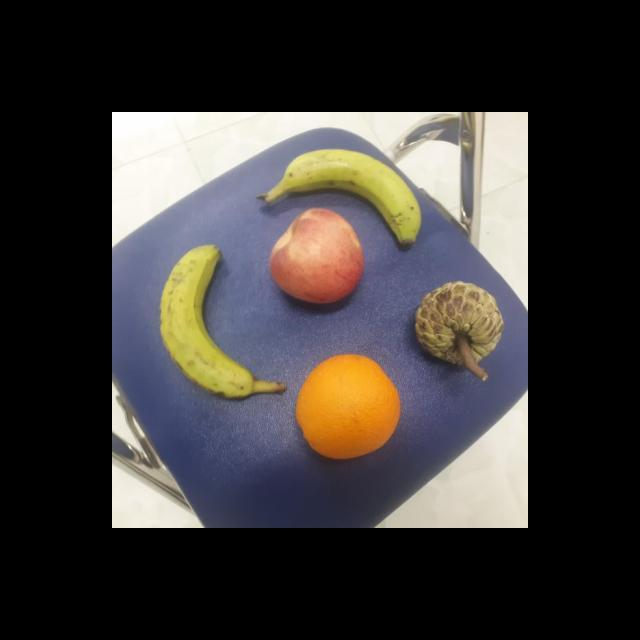Sakya fruit: (412, 276, 504, 372)
apple: (264, 206, 374, 312)
banana: (156, 241, 260, 406), (260, 148, 428, 248)
orange: (289, 352, 406, 463)
